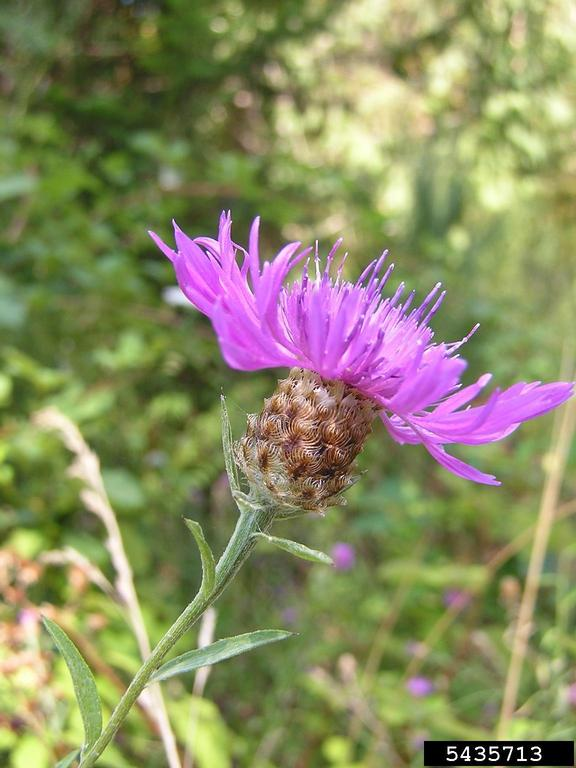thistle: (154, 209, 546, 544)
